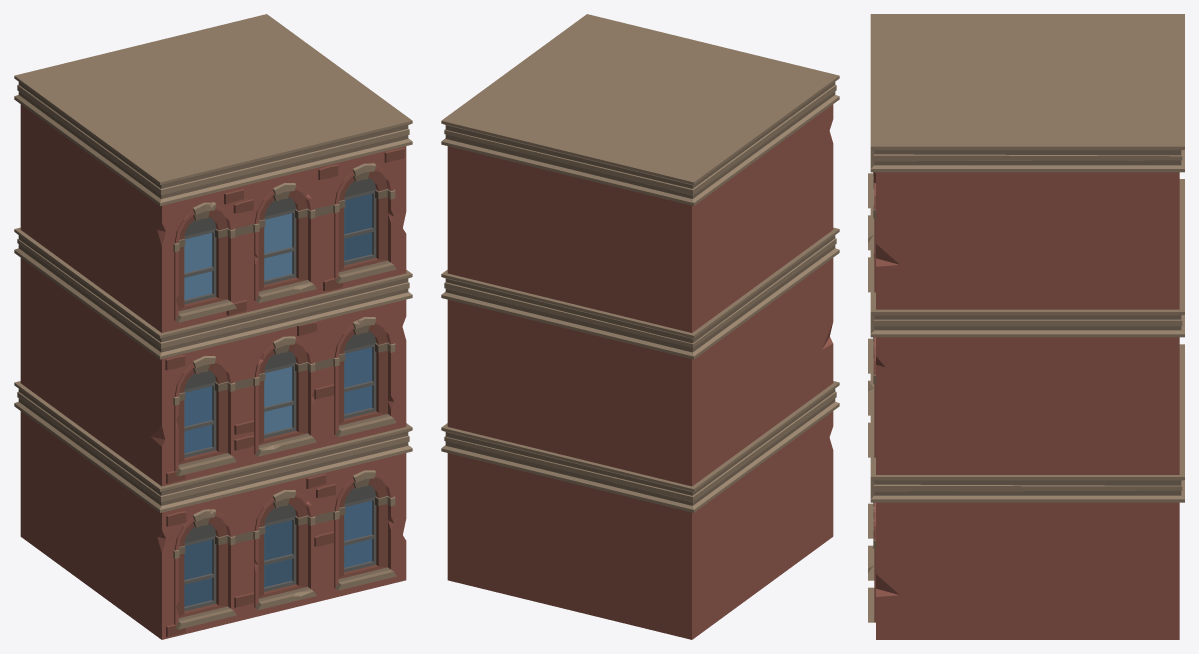
The model's file is apartment.glb.
3 renders of one model, left to right at view 1: azimuth 30°, elevation 25°; view 2: azimuth 150°, elevation 25°; view 3: azimuth 270°, elevation 25°, orthographic. The views are drawn at different scales.
Parts seen in each view (by area): view 1: SM_Bld_Apartment_Stack_02; view 2: SM_Bld_Apartment_Stack_02; view 3: SM_Bld_Apartment_Stack_02.
Boxes of the visible parts, left/top/right/bottom form: SM_Bld_Apartment_Stack_02: left=14, top=14, right=412, bottom=639; SM_Bld_Apartment_Stack_02: left=441, top=14, right=839, bottom=639; SM_Bld_Apartment_Stack_02: left=868, top=14, right=1184, bottom=639.
Bounding box in the file's own units: 5.17 × 9 × 5.21.
Materials: 1 (1 with a texture image).
